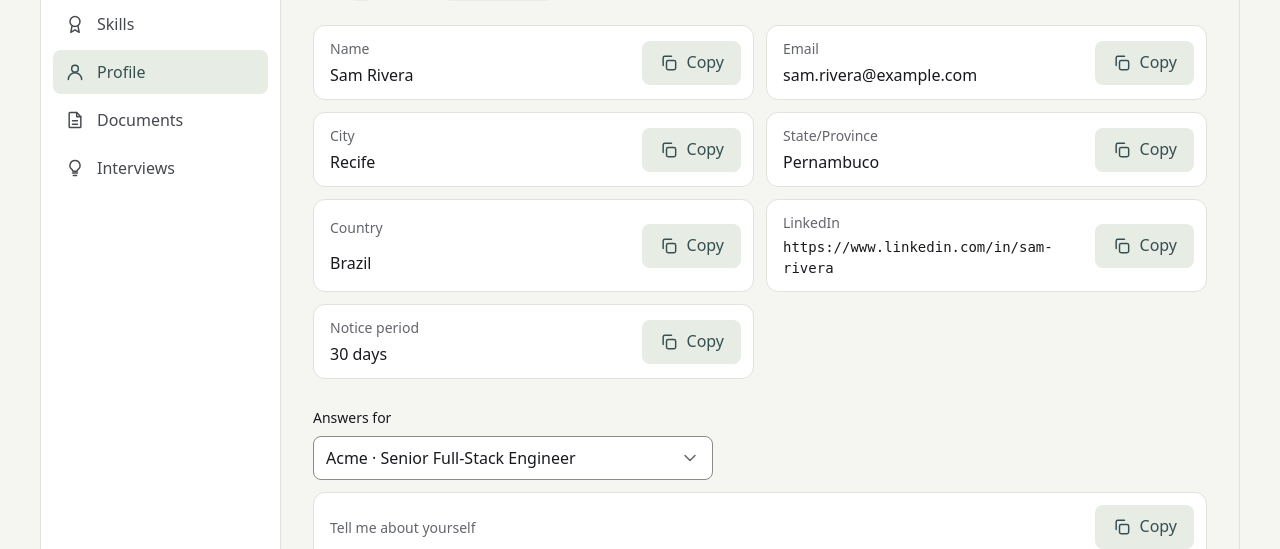
Test: Profile copy panel › switches jobs without asking the network again
Select "Globex · Frontend Platform Engineer" in the dropdown labelled "Answers for" at [499, 458], box [326,437,672,479]
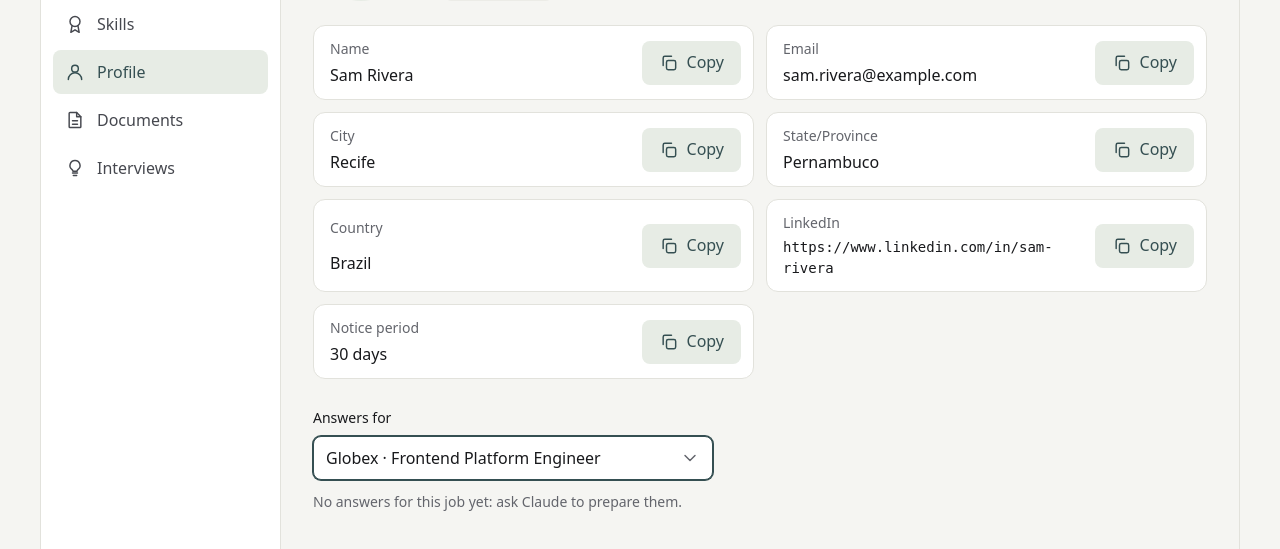
Check: the text "No answers for this job yet: ask Claude to prepare them." is shown, box [313,492,682,511]
Select "Acme · Senior Full-Stack Engineer" in the dropdown labelled "Answers for" at [499, 458], box [326,437,672,479]
(page scrolled)
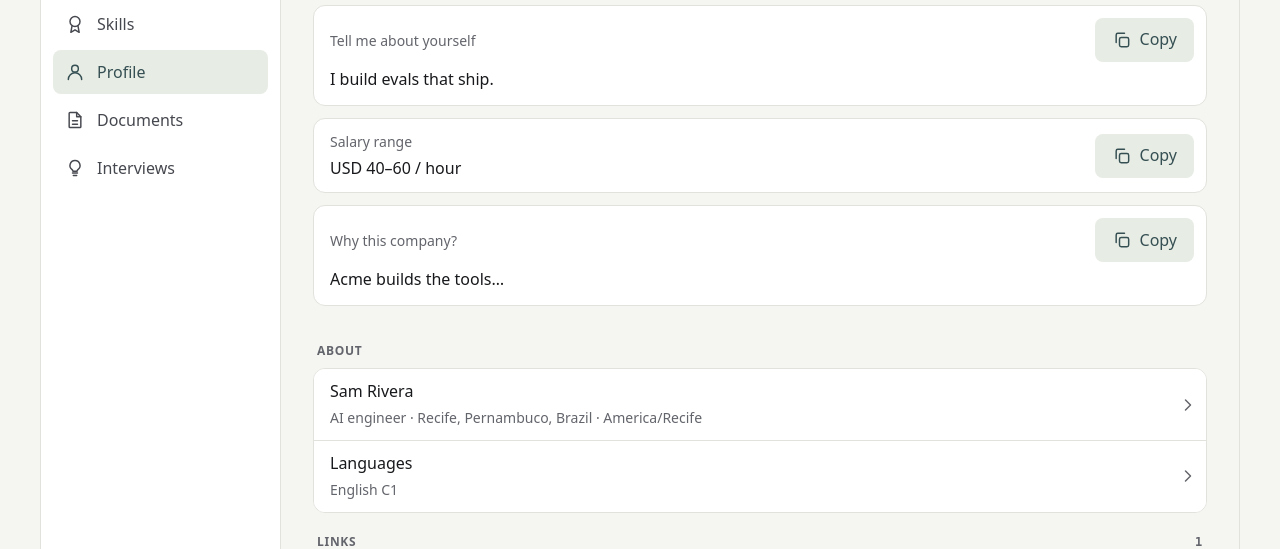
Check: the text "Why this company?" is shown, box [330,231,457,250]
